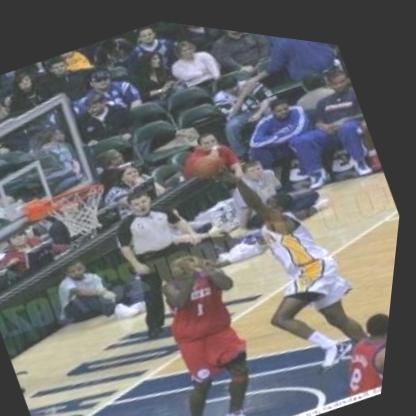basketball: (187, 134, 237, 184)
